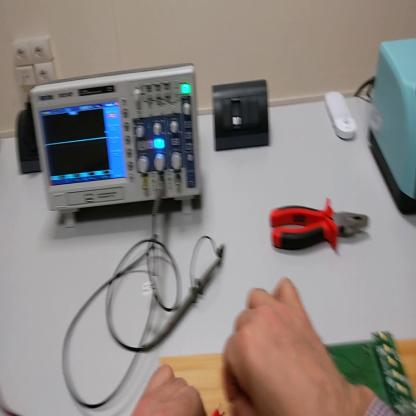hand: (222, 281, 353, 415), (133, 363, 205, 415)
low voltage board: (225, 328, 416, 415)
oscilloscope: (31, 67, 205, 226)
oscilloscope probe tip: (144, 258, 222, 354)
pliers: (269, 201, 371, 253)
socket: (14, 107, 43, 177)
welder station: (369, 31, 416, 219)
working area: (161, 339, 416, 414)
